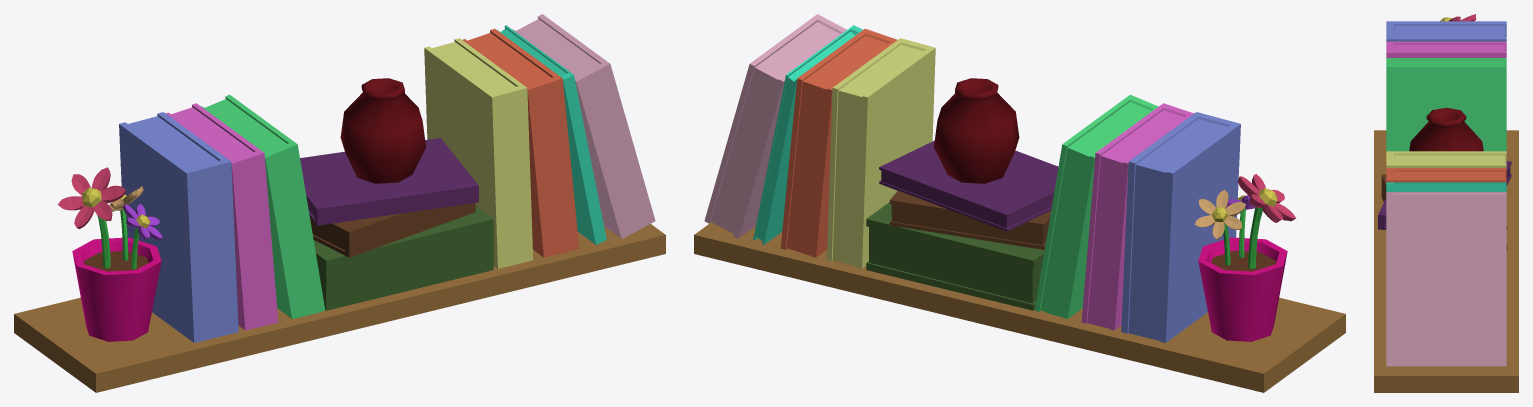
File: Estante.fbx
3 views of the same model, side by side, from view 1: azimuth 30°, elevation 25°; view 2: azimuth 150°, elevation 25°; view 3: azimuth 270°, elevation 25° (orthographic). The views are drawn at different scales.
Visible parts, largest first — view 1: BookshelfRoom; view 2: BookshelfRoom; view 3: BookshelfRoom.
Boxes of the visible parts, x1,y1,x2,y2 form: BookshelfRoom: (14,14,665,392); BookshelfRoom: (694,14,1345,392); BookshelfRoom: (1374,14,1518,392).
Bounding box in the file's own units: 290 × 96.01 × 72.28.
